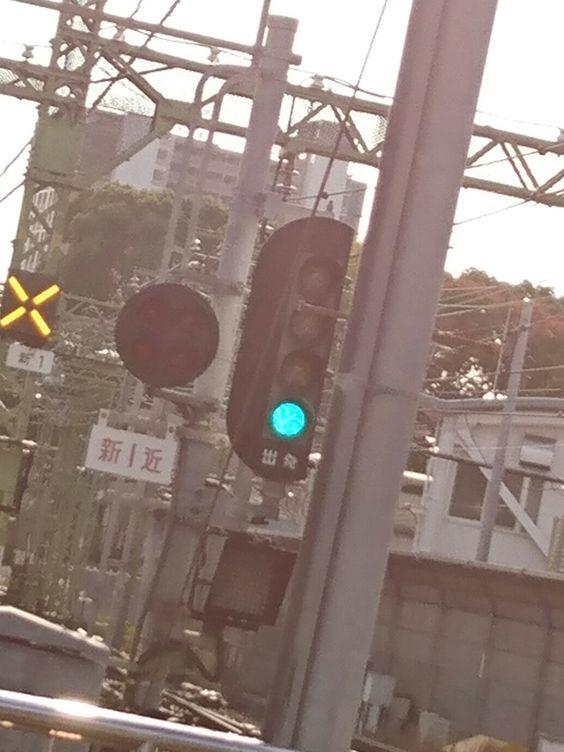Traffic light green: (224, 214, 368, 488)
